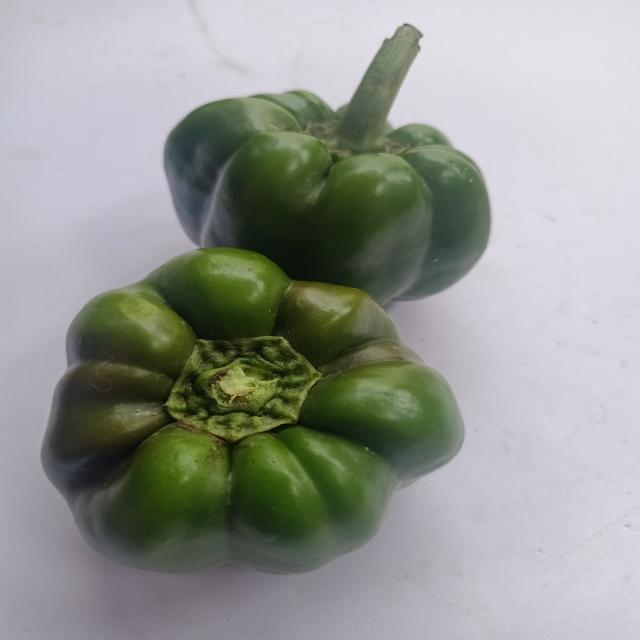Capsicum: (23, 244, 479, 581), (149, 17, 503, 323)
